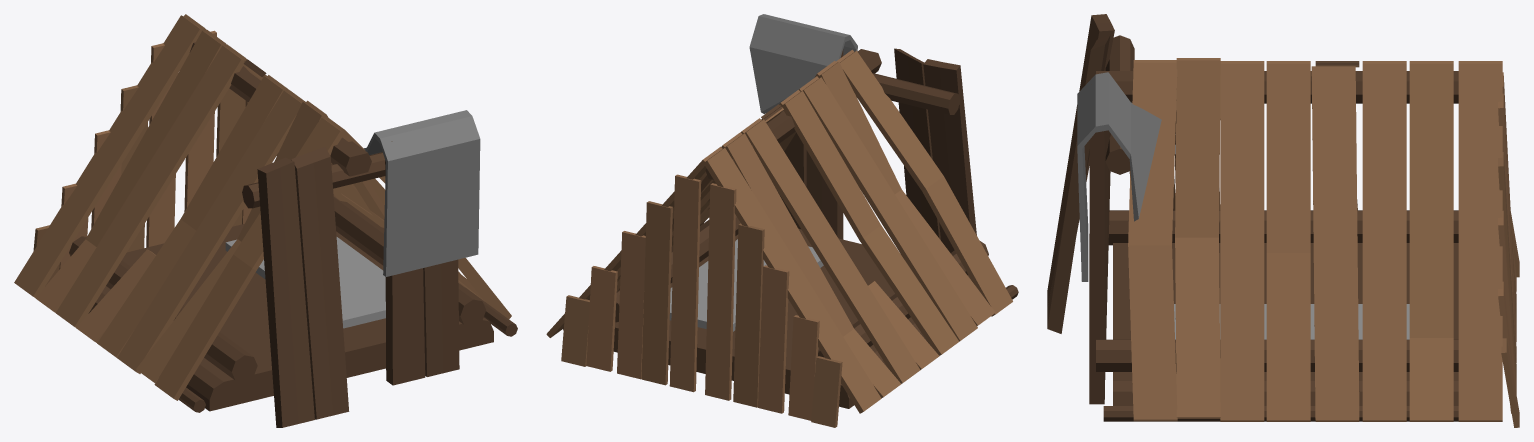
Rendered from Model_Chatka_Cygan1.fbx.
The picture shows the model from 3 angles, left to right: view 1: azimuth 30°, elevation 25°; view 2: azimuth 150°, elevation 25°; view 3: azimuth 270°, elevation 25°; orthographic projection. The views are drawn at different scales.
Visible parts, largest first — view 1: Mesh_Chatka_Cygan1; view 2: Mesh_Chatka_Cygan1; view 3: Mesh_Chatka_Cygan1.
Part boxes in pixels (<box>): Mesh_Chatka_Cygan1: <box>14,14,517,427</box>; Mesh_Chatka_Cygan1: <box>546,14,1018,427</box>; Mesh_Chatka_Cygan1: <box>1047,14,1519,427</box>.
Bounding box in the file's own units: 302 × 206 × 289.
